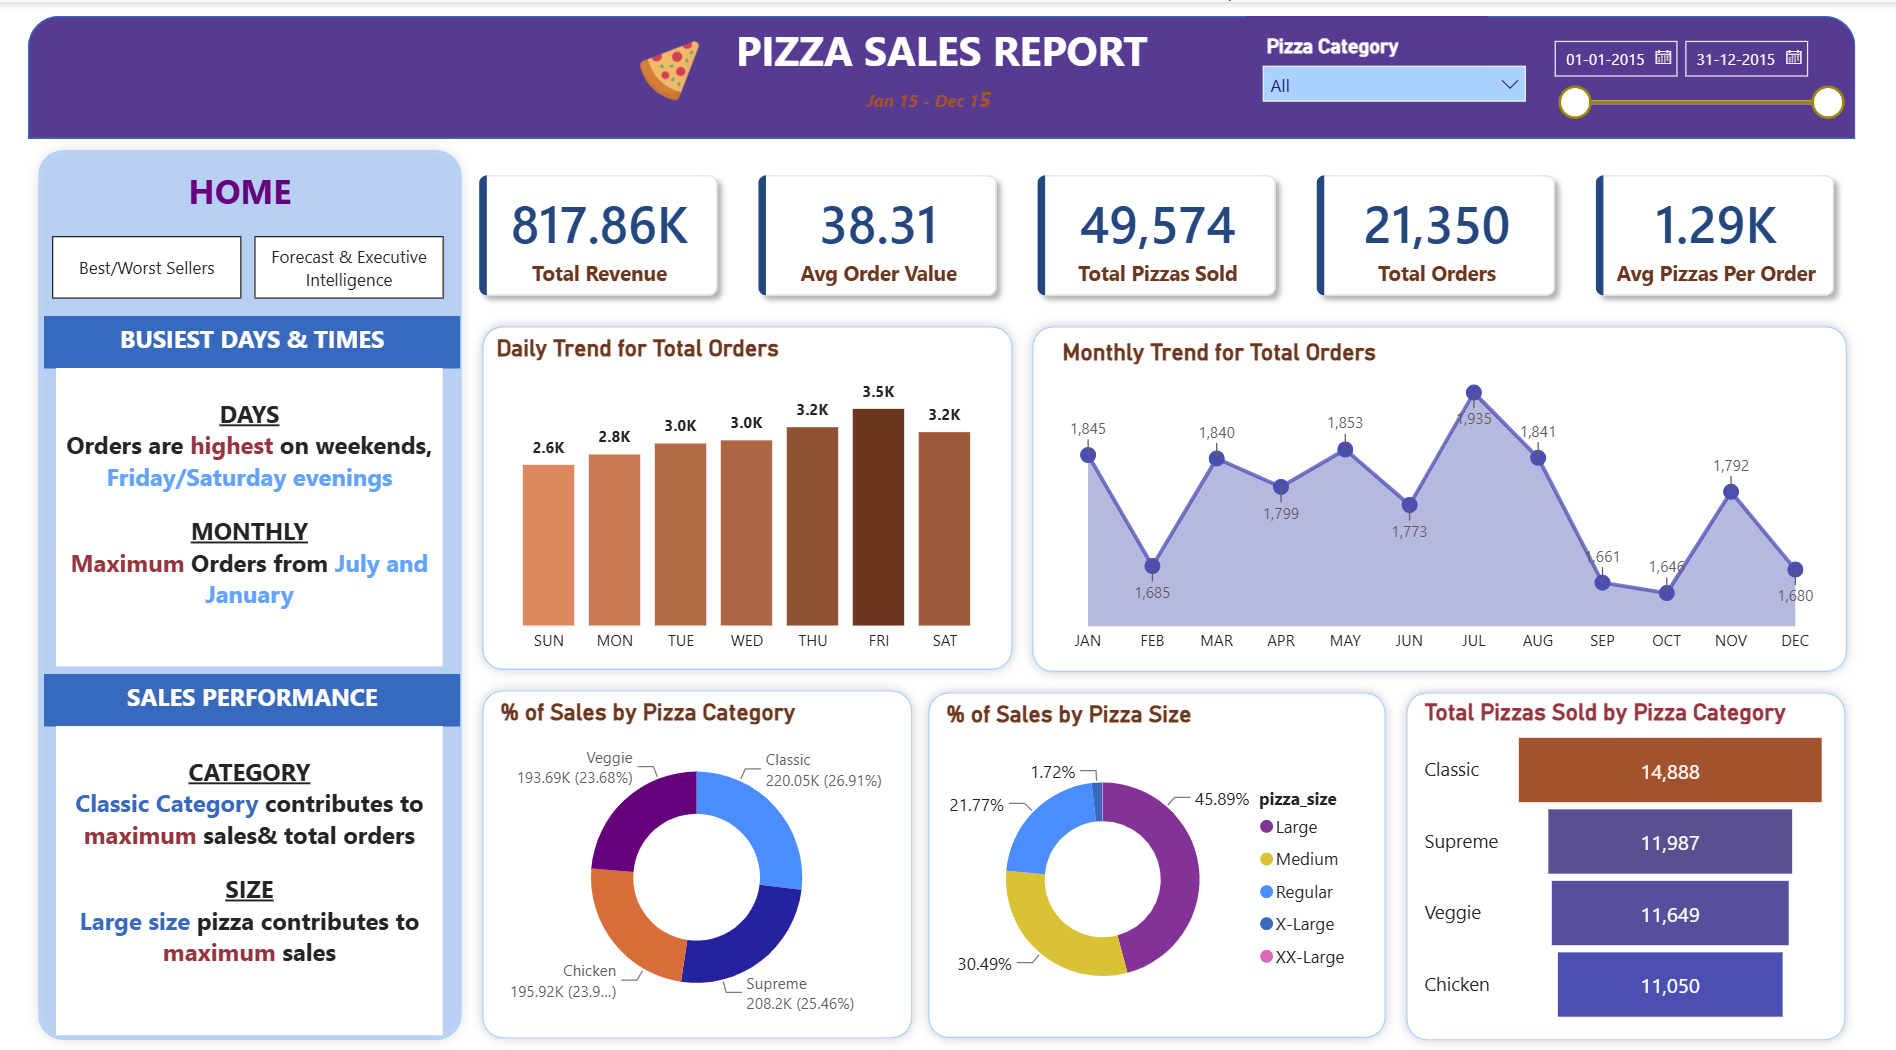

What the dashboard file says about the page in this screenshot:
{"tool":"powerbi","page":{"name":"Home","canvas":[1500,820],"ordinal":0},"visuals":[{"type":"cardVisual","fields":{"Data":["pizza_sales.Total Revenue","pizza_sales.Avg Order Value","pizza_sales.Total Pizzas Sold","pizza_sales.Total Orders","pizza_sales.Avg Pizzas Per Order"]},"box":[360.8,106.6,1116.1,152.8],"z":0},{"type":"shape","box":[37.3,10.7,1427.1,96],"z":1000},{"type":"textbox","box":[687.8,58.6,126.2,37.3],"z":2000},{"type":"textbox","box":[586.5,10.7,455,48],"z":3000},{"type":"image","box":[490.5,30.2,96,48],"z":4000},{"type":"shape","box":[988.2,10.7,188.4,51.5],"z":5000},{"type":"shape","box":[383.9,245.3,430.1,284.4],"z":6000},{"type":"shape","box":[814,245.3,652.3,286.1],"z":7000},{"type":"shape","box":[383.9,529.6,351.9,287.9],"z":8000},{"type":"shape","box":[1105.5,531.4,359,287.9],"z":9000},{"type":"shape","box":[732.2,531.4,373.2,286.1],"z":10000},{"type":"columnChart","title":"Daily Trend for Total Orders","fields":{"Category":["pizza_sales.Order Day"],"Y":["pizza_sales.Total Orders"]},"box":[398.1,259.5,401.7,257.7],"z":11000},{"type":"areaChart","title":"Monthly Trend for Total Orders","fields":{"Category":["pizza_sales.Order Month"],"Y":["pizza_sales.Total Orders"]},"box":[840.6,263,602.5,254.1],"z":12000},{"type":"donutChart","title":"% of Sales by Pizza Category","fields":{"Y":["pizza_sales.Total Revenue"],"Category":["pizza_sales.pizza_category"]},"box":[401.7,543.8,316.4,259.5],"z":13000},{"type":"donutChart","title":"% of Sales by Pizza Size","fields":{"Y":["pizza_sales.Total Revenue"],"Category":["pizza_sales.pizza_size"]},"box":[750,545.6,334.1,259.5],"z":14000},{"type":"funnel","title":"Total Pizzas Sold by Pizza Category","fields":{"Category":["pizza_sales.pizza_category"],"Y":["pizza_sales.Total Pizzas Sold"]},"box":[1123.2,543.8,325.2,259.5],"z":15000},{"type":"shape","box":[37.3,108.4,346.6,710.9],"z":16000},{"type":"textbox","box":[49.8,245.3,325.2,40.9],"z":17000},{"type":"textbox","box":[49.8,524.3,325.2,40.9],"z":18000},{"type":"textbox","box":[58.6,286.1,302.1,232.8],"z":19000},{"type":"textbox","box":[58.6,565.2,302.1,241.7],"z":20000},{"type":"slicer","fields":{"Values":["pizza_sales.pizza_category"]},"box":[991.7,19.5,225.7,69.3],"z":21000},{"type":"slicer","fields":{"Values":["pizza_sales.order_date"]},"box":[1217.4,19.5,247,87.1],"z":22000},{"type":"pageNavigator","box":[56.9,183.1,307.5,49.8],"z":22001},{"type":"textbox","box":[99.5,122.6,206.2,46.2],"z":22002}]}

Visuals, with their boxes in screenshot pixels (x1, y1, x2, y2), scaled from the page's 1500x820 canvas onto the 1896x1050 screenshot:
cardVisual - pizza_sales.Total Revenue x pizza_sales.Avg Order Value: <bbox>456, 136, 1867, 332</bbox>
shape: <bbox>47, 14, 1851, 137</bbox>
textbox: <bbox>869, 75, 1029, 123</bbox>
textbox: <bbox>741, 14, 1316, 75</bbox>
image: <bbox>620, 39, 741, 100</bbox>
shape: <bbox>1249, 14, 1487, 80</bbox>
shape: <bbox>485, 314, 1029, 678</bbox>
shape: <bbox>1029, 314, 1853, 680</bbox>
shape: <bbox>485, 678, 930, 1047</bbox>
shape: <bbox>1397, 680, 1851, 1049</bbox>
shape: <bbox>926, 680, 1397, 1047</bbox>
"Daily Trend for Total Orders" columnChart: <bbox>503, 332, 1011, 662</bbox>
"Monthly Trend for Total Orders" areaChart: <bbox>1063, 337, 1824, 662</bbox>
"% of Sales by Pizza Category" donutChart: <bbox>508, 696, 908, 1029</bbox>
"% of Sales by Pizza Size" donutChart: <bbox>948, 699, 1370, 1031</bbox>
"Total Pizzas Sold by Pizza Category" funnel: <bbox>1420, 696, 1831, 1029</bbox>
shape: <bbox>47, 139, 485, 1049</bbox>
textbox: <bbox>63, 314, 474, 366</bbox>
textbox: <bbox>63, 671, 474, 724</bbox>
textbox: <bbox>74, 366, 456, 664</bbox>
textbox: <bbox>74, 724, 456, 1033</bbox>
slicer - pizza_sales.pizza_category: <bbox>1254, 25, 1539, 114</bbox>
slicer - pizza_sales.order_date: <bbox>1539, 25, 1851, 136</bbox>
pageNavigator: <bbox>72, 234, 461, 298</bbox>
textbox: <bbox>126, 157, 386, 216</bbox>
